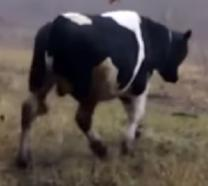cow: (15, 10, 192, 171)
